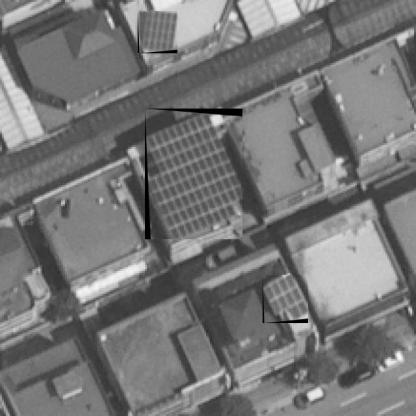solar-pv-panel: (148, 113, 242, 239), (263, 275, 308, 321), (139, 11, 177, 51)
